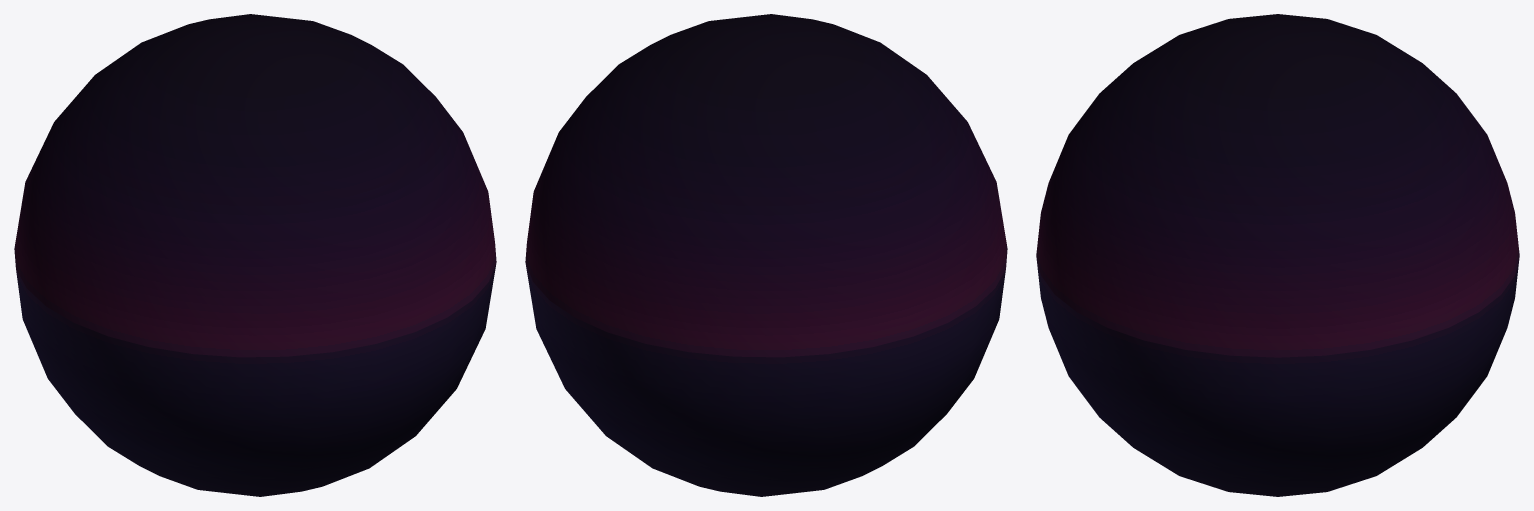
Rendered from skyball.FBX.
The picture shows the model from 3 angles, left to right: view 1: azimuth 30°, elevation 25°; view 2: azimuth 150°, elevation 25°; view 3: azimuth 270°, elevation 25°; orthographic projection.
Visible parts, largest first — view 1: skyball; view 2: skyball; view 3: skyball.
Part boxes in pixels (x1,y1,x2,y2): skyball: [14, 14, 496, 496]; skyball: [525, 14, 1007, 496]; skyball: [1036, 14, 1519, 496].
Size of the model in its own units: 120 by 120 by 120.
